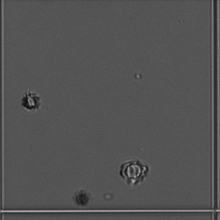Dead Cell: (116, 157, 148, 189), (18, 89, 43, 114), (71, 188, 92, 209)
